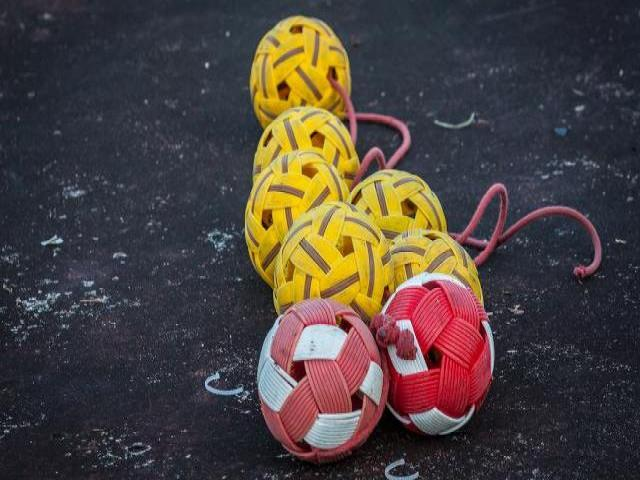round ball: (257, 296, 386, 467), (378, 272, 496, 441), (268, 202, 396, 324), (247, 149, 353, 290), (248, 12, 355, 130), (355, 142, 451, 250), (246, 103, 364, 178)
